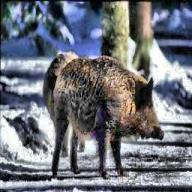boar: (49, 55, 164, 179)
